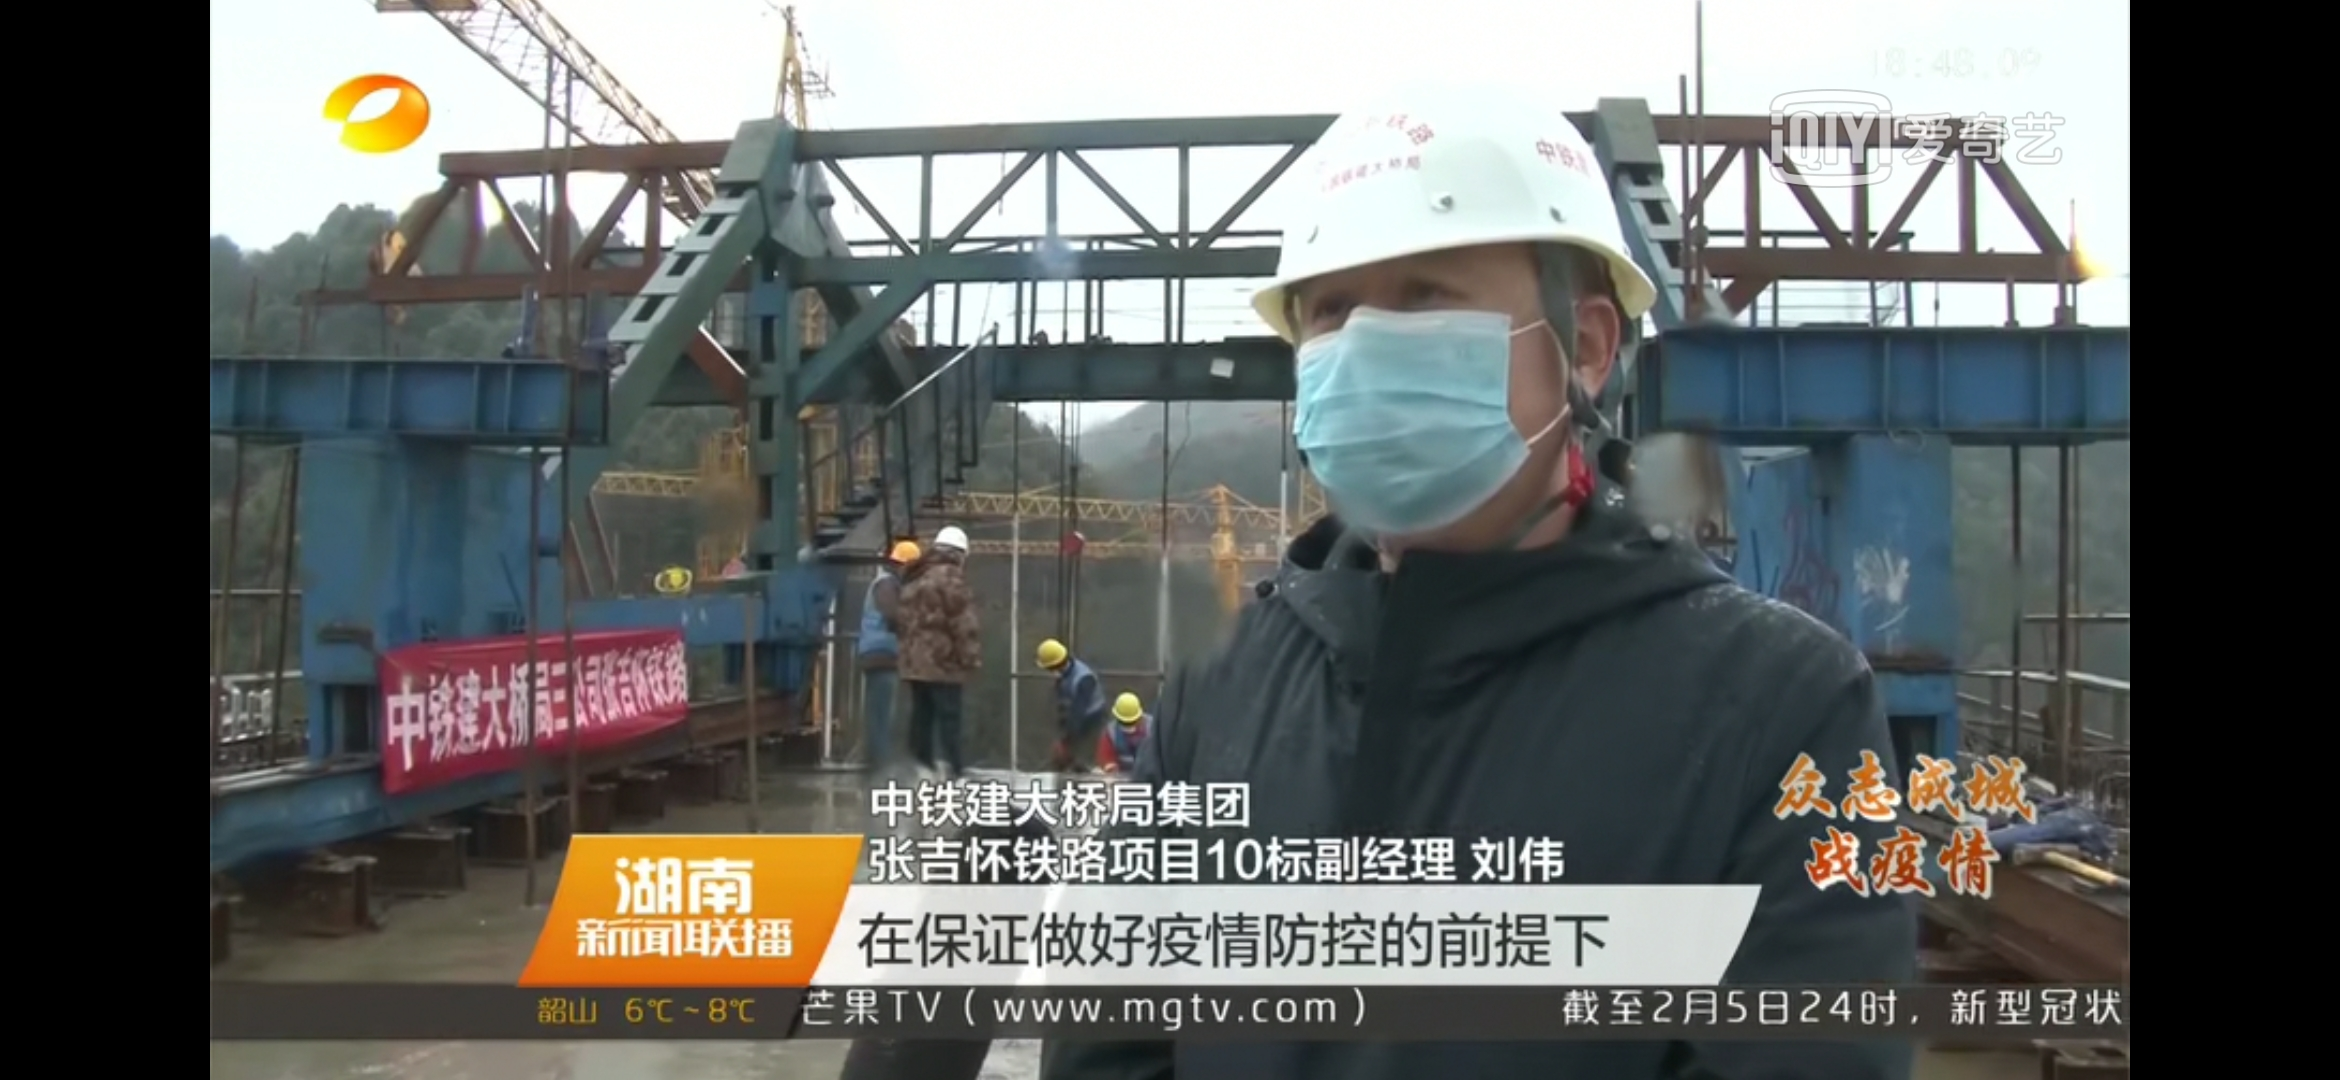correctlyWear: (1286, 277, 1624, 544)
